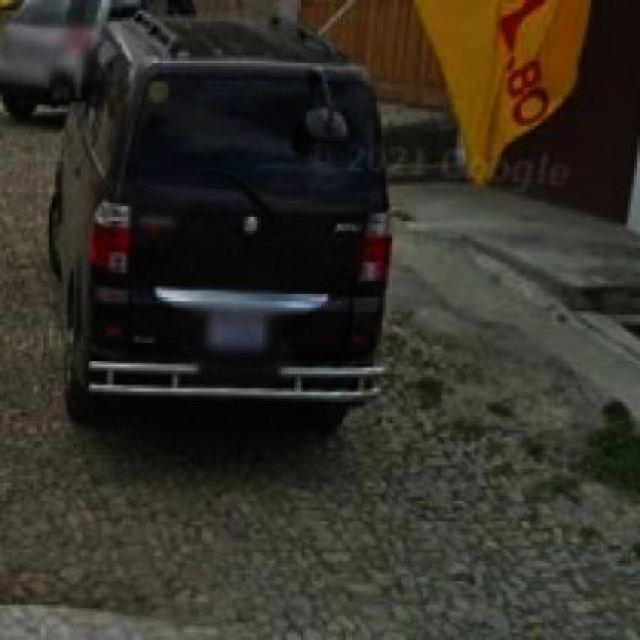car: (48, 9, 387, 436)
